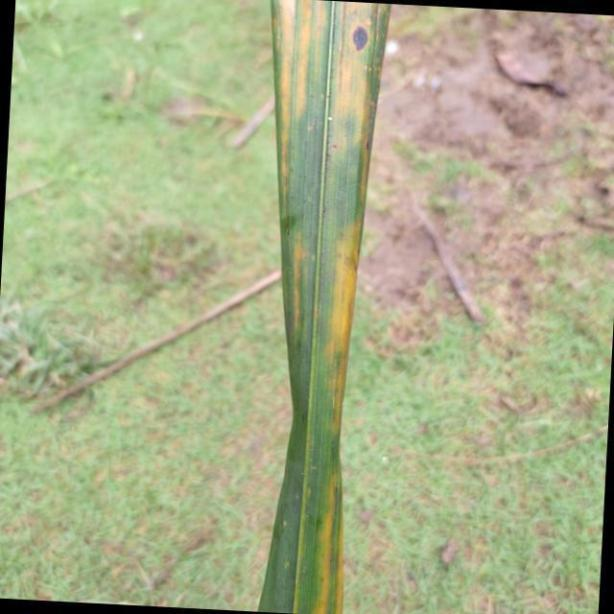Megnesium: (259, 0, 393, 614)
